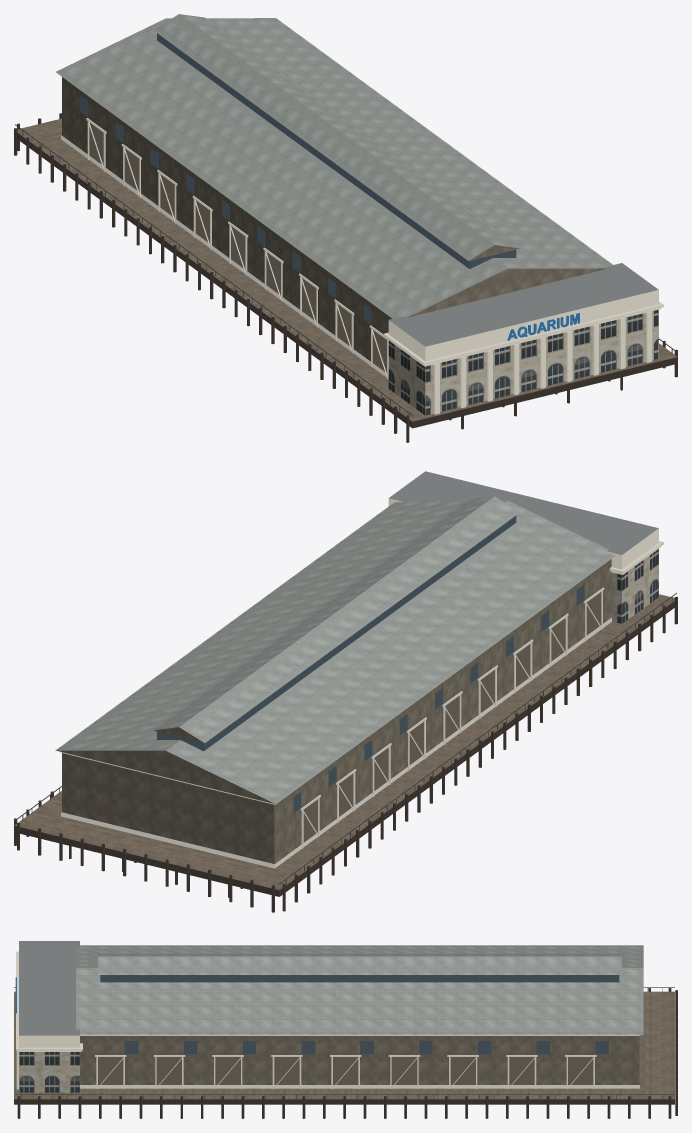
The model's file is aquarium.glb.
3 views of the same model, one above another, from view 1: azimuth 30°, elevation 25°; view 2: azimuth 150°, elevation 25°; view 3: azimuth 270°, elevation 25° (orthographic). The views are drawn at different scales.
Parts seen in each view (by area): view 1: seattle_aquarium; view 2: seattle_aquarium; view 3: seattle_aquarium.
Boxes of the visible parts, x1,y1,x2,y2 form: seattle_aquarium: (14,14,677,442); seattle_aquarium: (14,471,677,912); seattle_aquarium: (14,941,677,1118).
Size of the model in its own units: 51.2 by 23.32 by 131.
5 materials, 5 textured.
